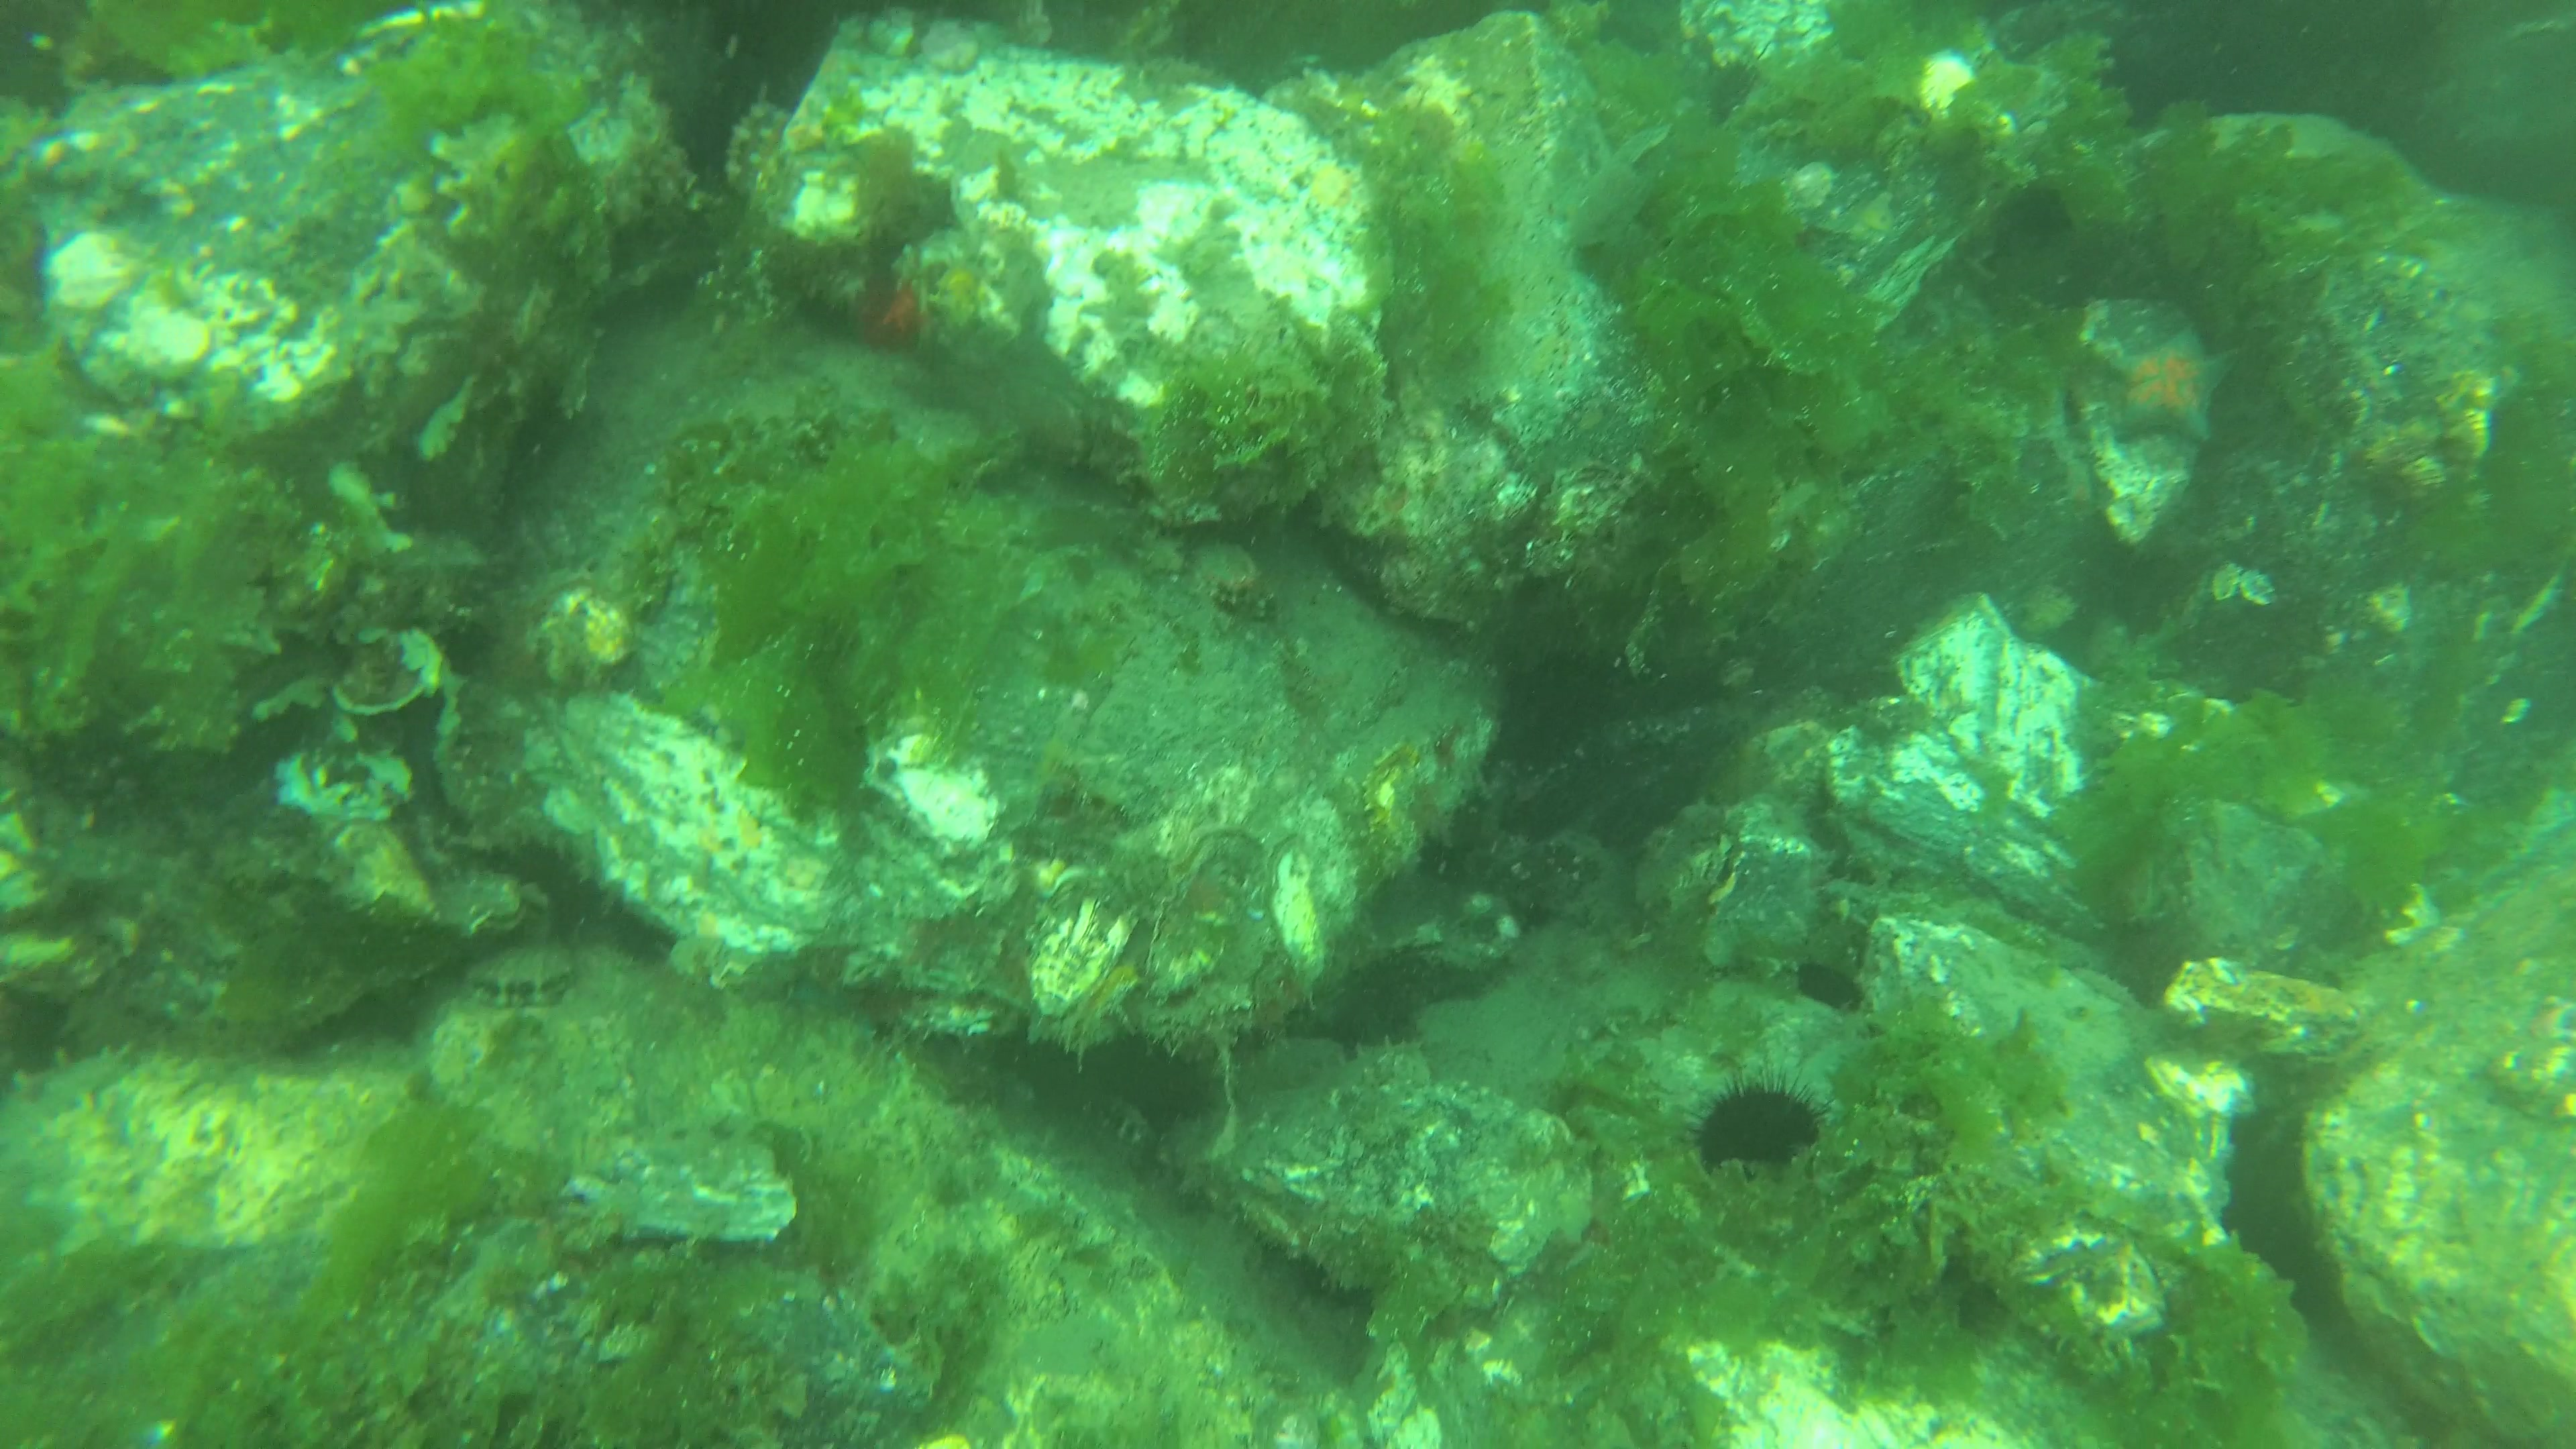echinus: (1683, 1065, 1835, 1189)
starfish: (2098, 311, 2245, 455)
